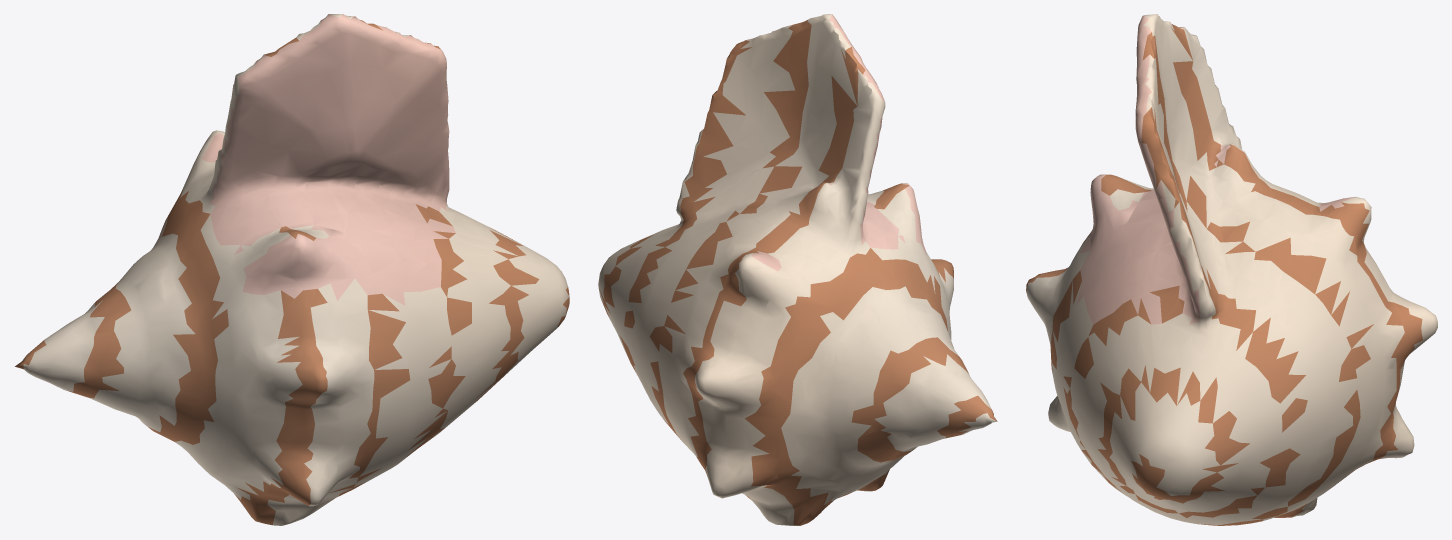
File: shore_conch.glb
3 views of the same model, side by side, from view 1: azimuth 30°, elevation 25°; view 2: azimuth 150°, elevation 25°; view 3: azimuth 270°, elevation 25° (orthographic). The views are drawn at different scales.
Visible parts, largest first — view 1: shore_conch; view 2: shore_conch; view 3: shore_conch.
Part boxes in pixels (x1,y1,x2,y2): shore_conch: [15, 14, 569, 525]; shore_conch: [598, 14, 997, 525]; shore_conch: [1026, 14, 1437, 525].
Size of the model in its own units: 4.76 by 4.6 by 3.42.
